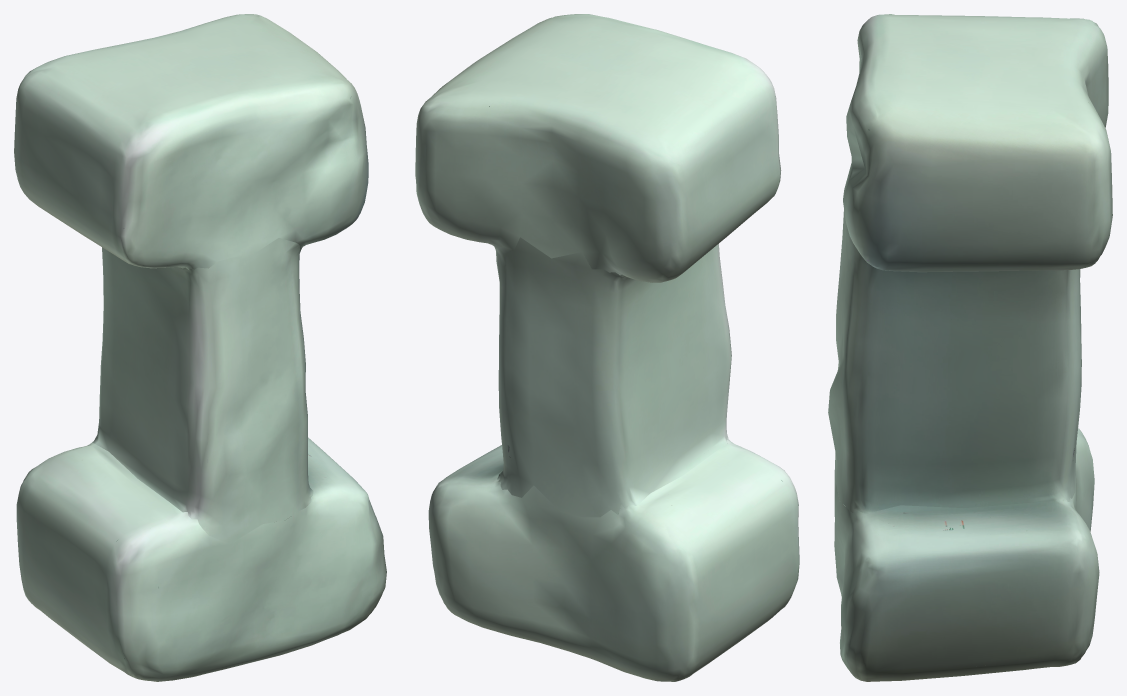
File: Stack 0A - I.glb
3 views of the same model, side by side, from view 1: azimuth 30°, elevation 25°; view 2: azimuth 150°, elevation 25°; view 3: azimuth 270°, elevation 25° (orthographic). The views are drawn at different scales.
Parts seen in each view (by area): view 1: Stack 0A - I · part 3, Stack 0A - I · part 1, Stack 0A - I · part 2; view 2: Stack 0A - I · part 3, Stack 0A - I · part 1, Stack 0A - I · part 2; view 3: Stack 0A - I · part 3, Stack 0A - I · part 2, Stack 0A - I · part 1.
Boxes of the visible parts, x1,y1,x2,y2 form: Stack 0A - I · part 3: [14, 14, 368, 269]; Stack 0A - I · part 1: [16, 437, 386, 681]; Stack 0A - I · part 2: [93, 238, 313, 544]; Stack 0A - I · part 3: [415, 14, 781, 282]; Stack 0A - I · part 1: [428, 440, 799, 681]; Stack 0A - I · part 2: [493, 237, 731, 517]; Stack 0A - I · part 3: [843, 14, 1112, 272]; Stack 0A - I · part 2: [828, 210, 1081, 513]; Stack 0A - I · part 1: [834, 428, 1099, 681].
Bounding box in the file's own units: 0.5142 × 1 × 0.4374.
3 materials, 3 textured.
